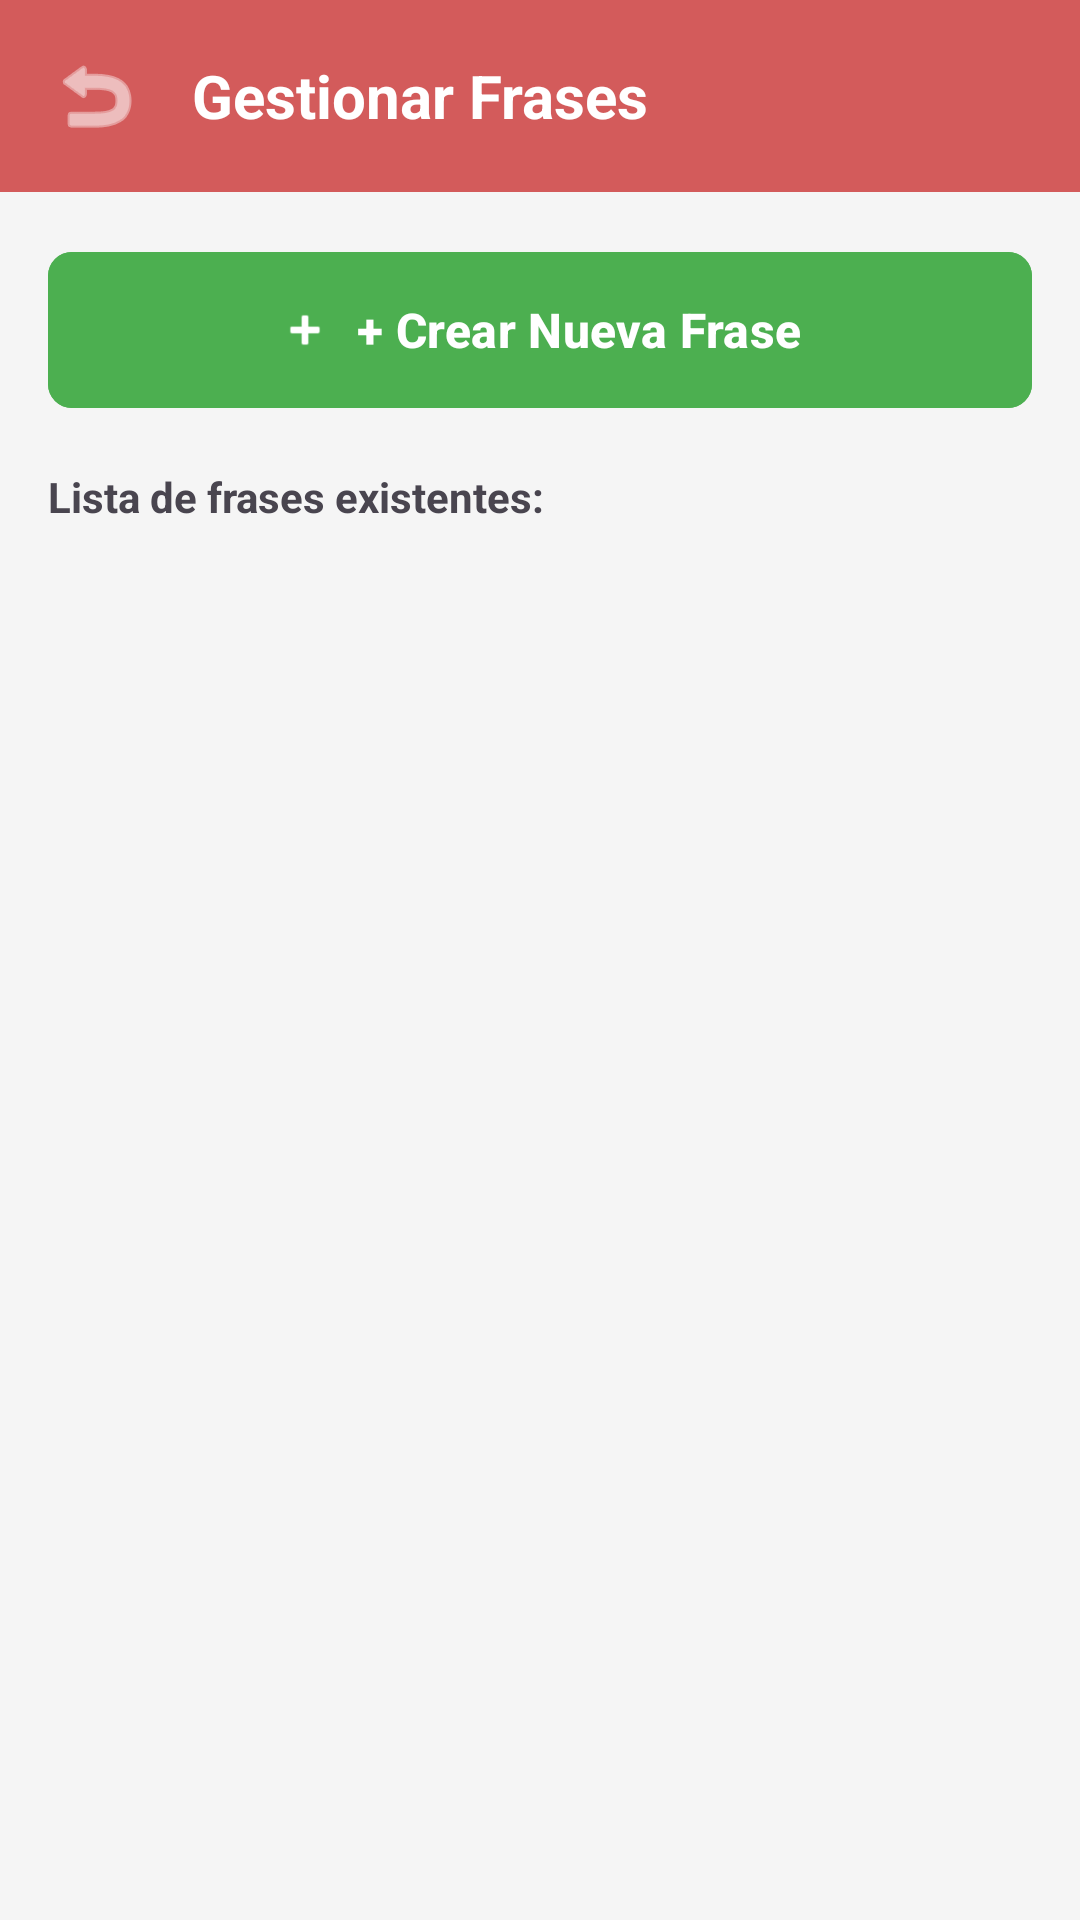

Screen size 1080×1920. Icon name, then its center in pixels as (x,y):
revert: (97,97)
